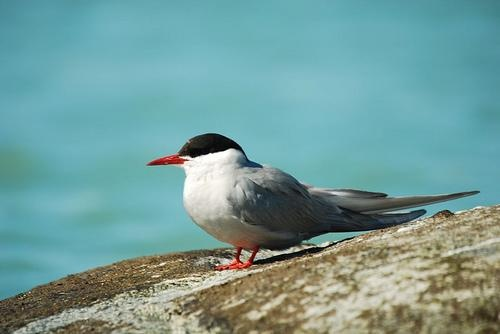bird: (146, 131, 483, 271)
